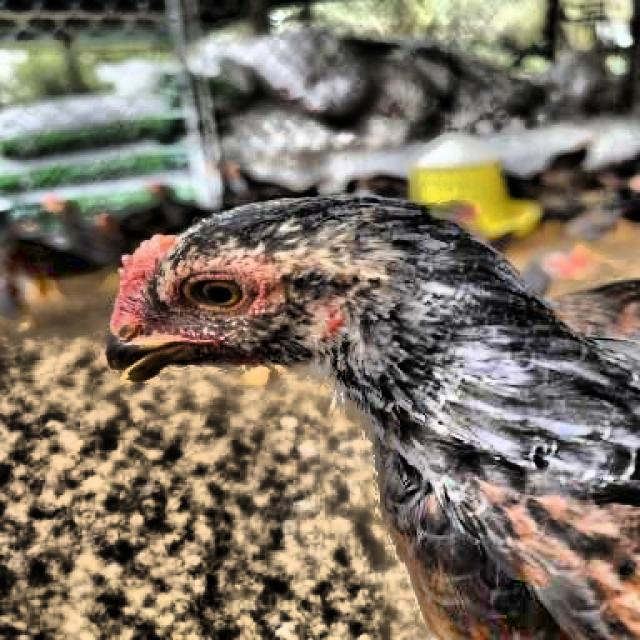Healthy: (162, 256, 273, 332)
